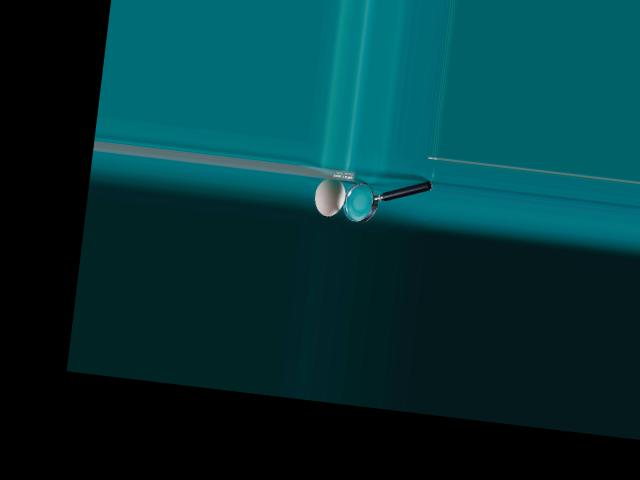egg: (312, 176, 347, 218)
